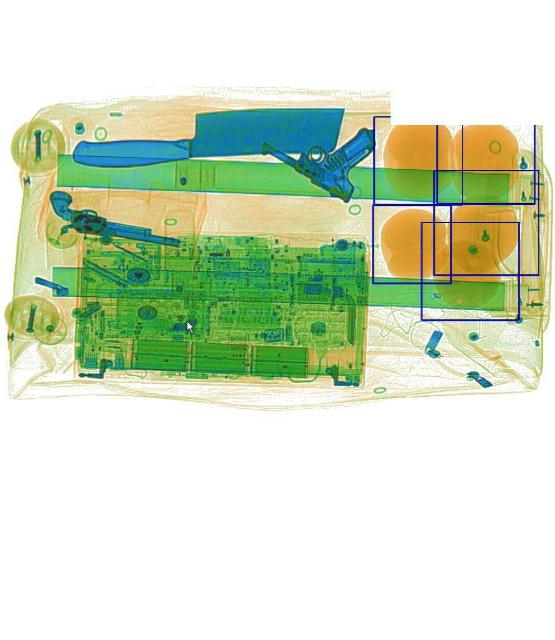Gun: (254, 80, 383, 204), (44, 189, 182, 249)
Knife: (70, 106, 343, 166)
